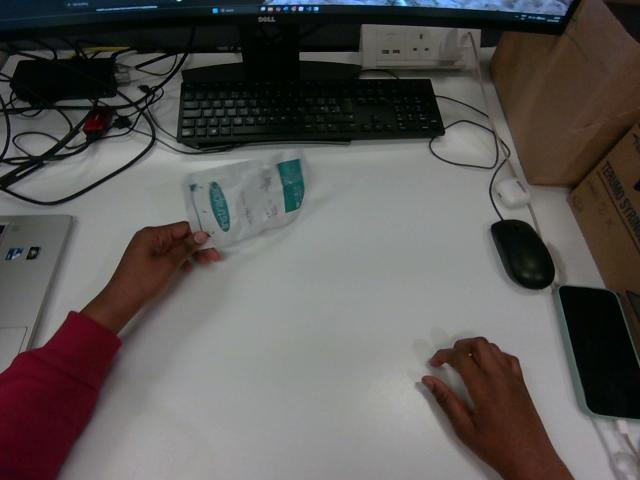gallipot: (185, 149, 304, 247)
